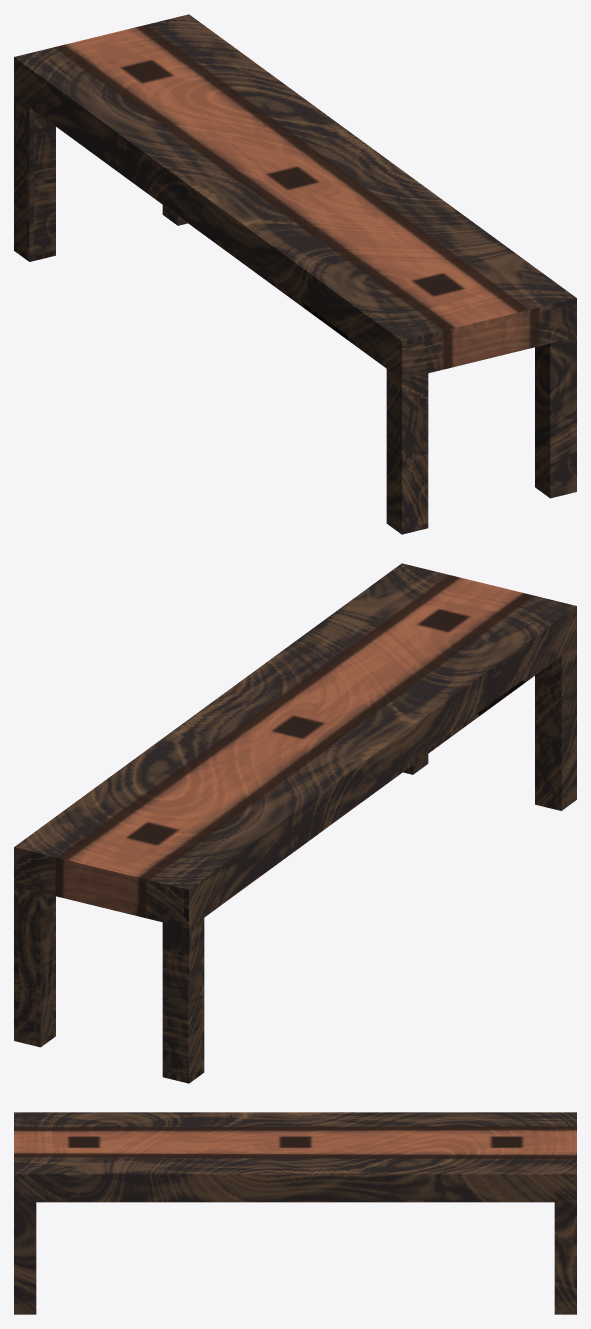
File: Chair.gltf
3 renders of one model, top to bottom at view 1: azimuth 30°, elevation 25°; view 2: azimuth 150°, elevation 25°; view 3: azimuth 270°, elevation 25°, orthographic. The views are drawn at different scales.
Parts seen in each view (by area): view 1: Cube.002; view 2: Cube.002; view 3: Cube.002.
Part boxes in pixels (<box>): Cube.002: <box>14,14,576,534</box>; Cube.002: <box>14,563,576,1083</box>; Cube.002: <box>14,1112,576,1314</box>.
Bounding box in the file's own units: 1.77 × 1.87 × 6.8.
1 material, 1 textured.
